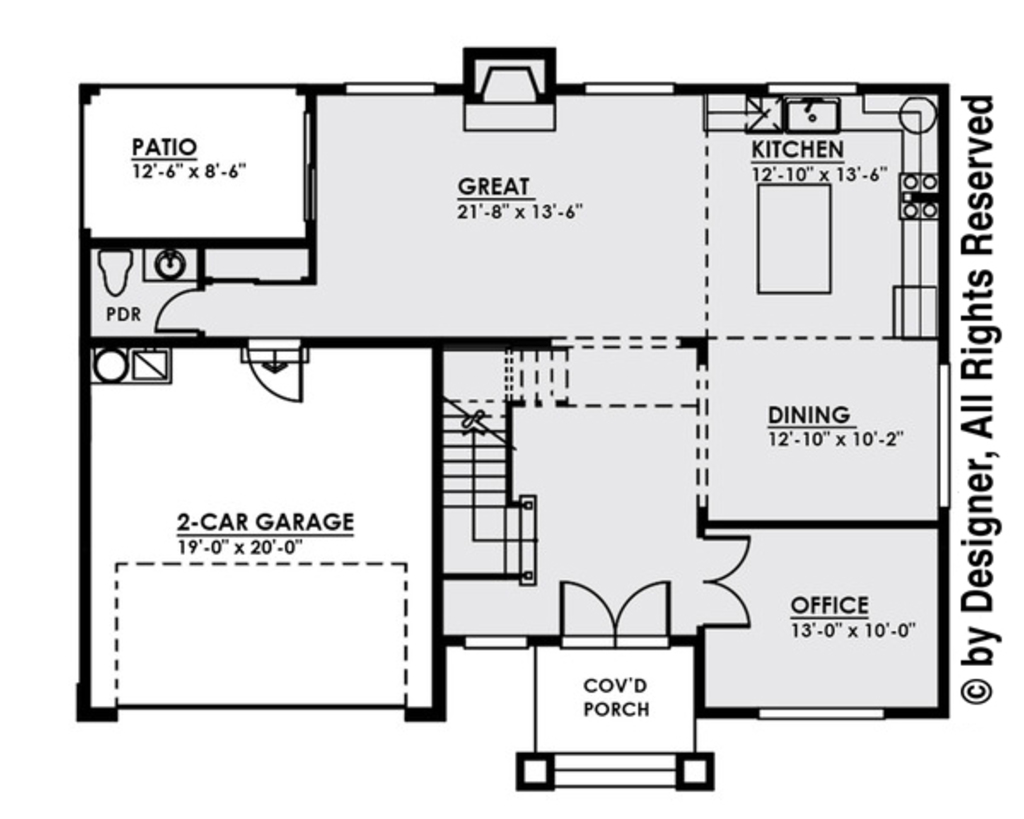door: (554, 582, 674, 649), (700, 535, 754, 630), (244, 341, 307, 402), (150, 284, 221, 335)
kitchen_bar: (895, 144, 951, 335)
large_sink: (88, 250, 142, 307)
small_sink: (150, 251, 200, 278)
stairs: (435, 396, 540, 575)
window: (934, 363, 950, 503), (340, 77, 439, 98), (588, 77, 680, 98), (762, 707, 881, 720), (767, 82, 857, 93)
